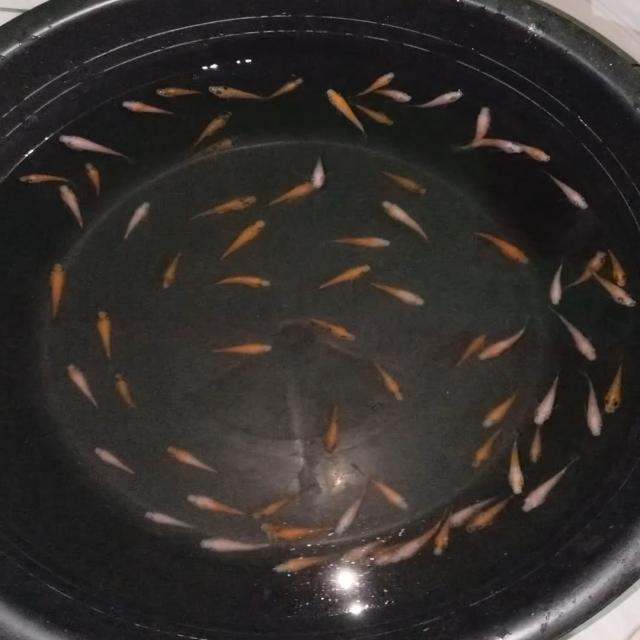nila: (522, 458, 579, 514), (392, 509, 450, 564), (355, 464, 413, 514), (331, 473, 373, 540), (378, 200, 434, 250), (55, 131, 140, 163), (351, 530, 414, 571), (474, 316, 530, 362), (462, 494, 521, 536), (553, 308, 598, 362), (582, 264, 638, 306), (216, 219, 266, 266), (178, 194, 258, 222), (467, 231, 530, 266), (186, 108, 232, 154), (442, 492, 499, 528), (480, 384, 522, 432), (327, 88, 368, 137), (114, 198, 154, 248), (252, 484, 310, 518), (365, 277, 428, 308), (559, 250, 607, 290), (186, 126, 242, 160), (64, 363, 102, 413), (311, 262, 373, 292), (530, 369, 562, 427), (299, 312, 357, 344), (162, 444, 222, 474), (368, 358, 405, 406), (342, 530, 388, 566), (264, 550, 330, 575), (467, 426, 504, 470), (547, 173, 588, 212), (266, 178, 322, 206), (94, 445, 142, 477), (58, 182, 86, 236), (185, 493, 248, 516), (138, 509, 200, 532), (46, 260, 67, 326), (452, 331, 489, 368), (378, 167, 428, 194), (582, 372, 602, 439), (112, 370, 142, 414), (206, 82, 271, 102), (602, 359, 625, 415), (352, 71, 395, 100), (94, 308, 116, 364), (508, 431, 526, 498), (434, 503, 456, 557), (266, 525, 343, 540), (354, 102, 398, 128), (602, 246, 627, 290), (324, 235, 391, 251), (410, 89, 461, 110), (197, 538, 273, 552), (158, 248, 182, 292), (205, 341, 275, 356), (118, 99, 176, 117), (266, 76, 304, 102), (548, 256, 566, 310), (325, 400, 342, 456), (206, 276, 273, 290), (468, 104, 490, 146), (526, 420, 546, 466), (371, 546, 406, 572), (464, 139, 522, 154), (513, 142, 555, 162), (369, 85, 413, 104), (156, 84, 208, 100), (84, 159, 102, 196), (312, 146, 326, 192), (14, 173, 70, 182), (259, 523, 297, 533)
